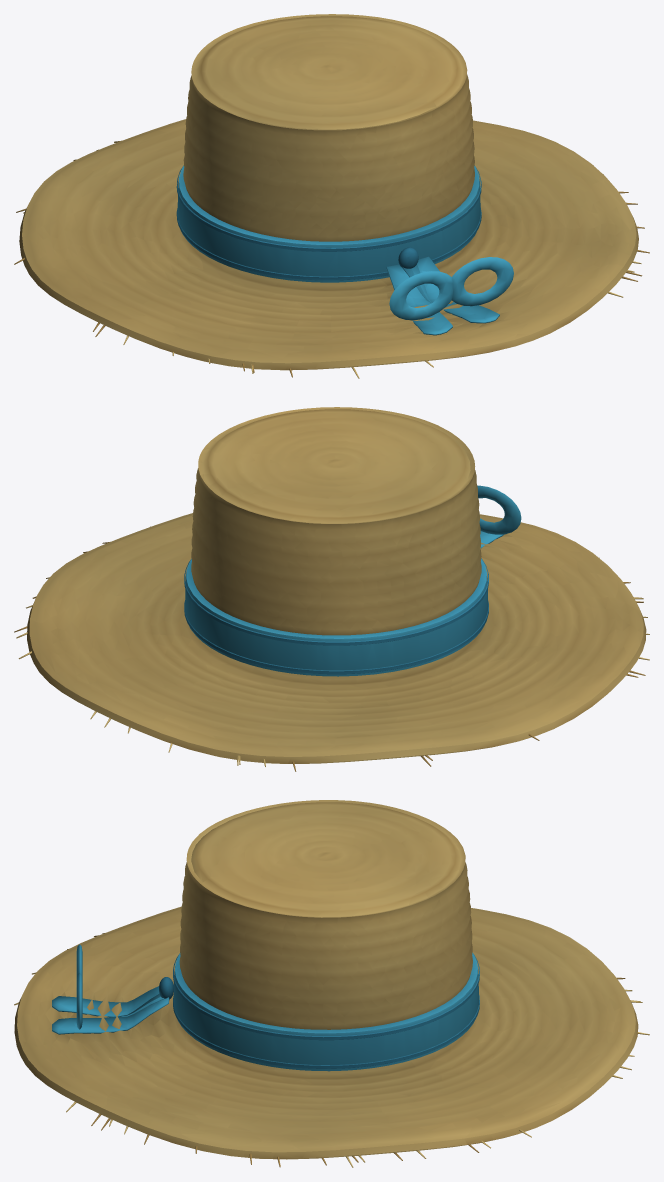
Rendered from shore_sun_hat_lod1.glb.
The picture shows the model from 3 angles, top to bottom: view 1: azimuth 30°, elevation 25°; view 2: azimuth 150°, elevation 25°; view 3: azimuth 270°, elevation 25°; orthographic projection.
Visible parts, largest first — view 1: shore_sun_hat.001; view 2: shore_sun_hat.001; view 3: shore_sun_hat.001.
Part boxes in pixels (x1=…): shore_sun_hat.001: x1=14, y1=14, x2=649, y2=378; shore_sun_hat.001: x1=14, y1=407, x2=649, y2=771; shore_sun_hat.001: x1=14, y1=800, x2=649, y2=1167.
Bounding box in the file's own units: 49.32 × 15.27 × 49.13.
